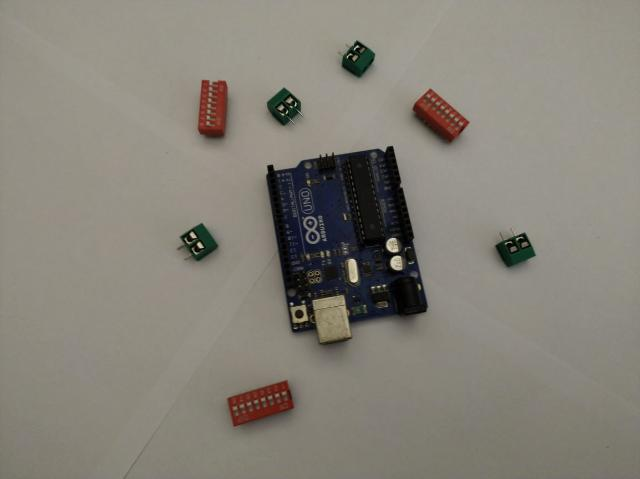arduino: (266, 146, 428, 346)
dip_switch: (412, 89, 470, 144), (228, 380, 294, 428), (198, 80, 228, 138)
terminal_block: (496, 227, 536, 267), (178, 224, 218, 262), (267, 86, 303, 126), (338, 39, 374, 77)
